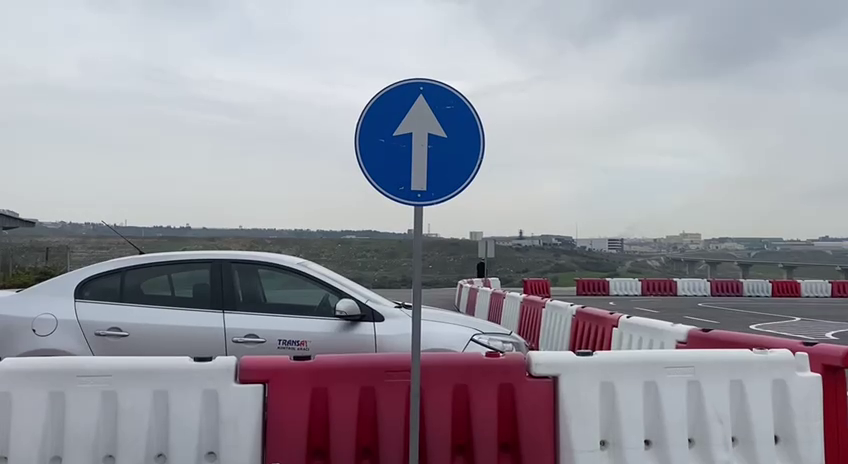forward: (352, 73, 487, 209)
